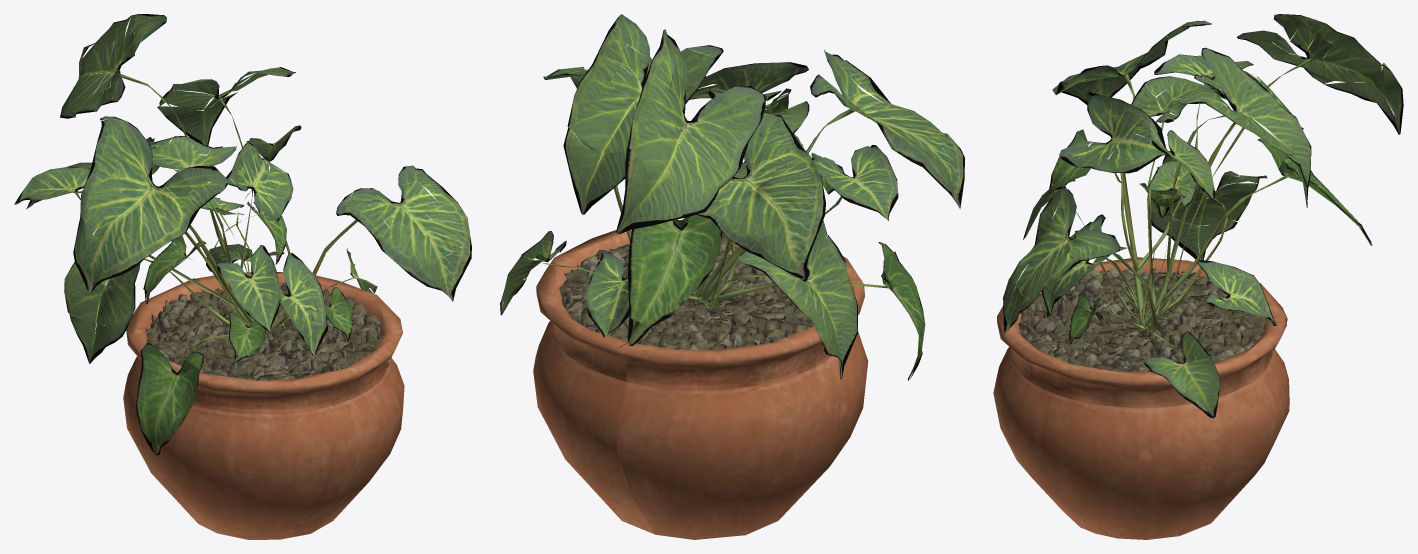
File: ph_potted_plant_02.glb
3 renders of one model, left to right at view 1: azimuth 30°, elevation 25°; view 2: azimuth 150°, elevation 25°; view 3: azimuth 270°, elevation 25°, orthographic. The views are drawn at different scales.
Parts seen in each view (by area): view 1: potted_plant_02_pot; view 2: potted_plant_02_pot; view 3: potted_plant_02_pot.
Part boxes in pixels (x1,y1,x2,y2): potted_plant_02_pot: (14, 14, 471, 539); potted_plant_02_pot: (500, 14, 964, 539); potted_plant_02_pot: (993, 14, 1403, 539).
Bounding box in the file's own units: 0.7008 × 0.8423 × 0.6581.
Materials: 2 (2 with a texture image).
